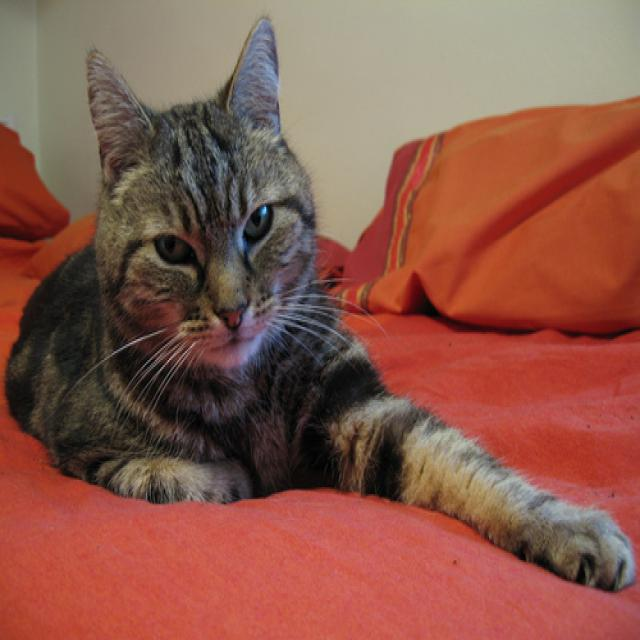left eye: (241, 200, 275, 245)
